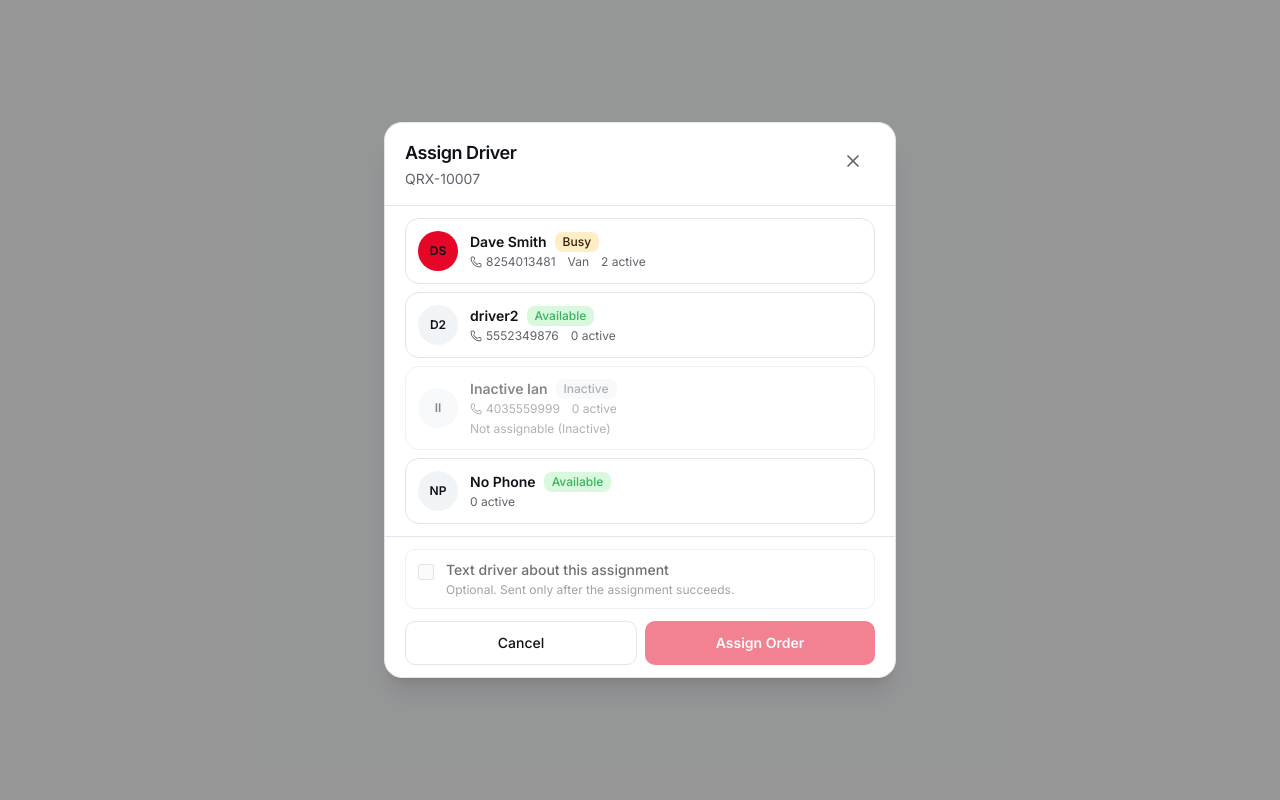
Test: AssignDriverDialog › defaults SMS off for first assignment and can assign without SMS
Click the option "D2 driver2 Available 5552349876 0 active" at (438, 325), box [405,292,875,358]
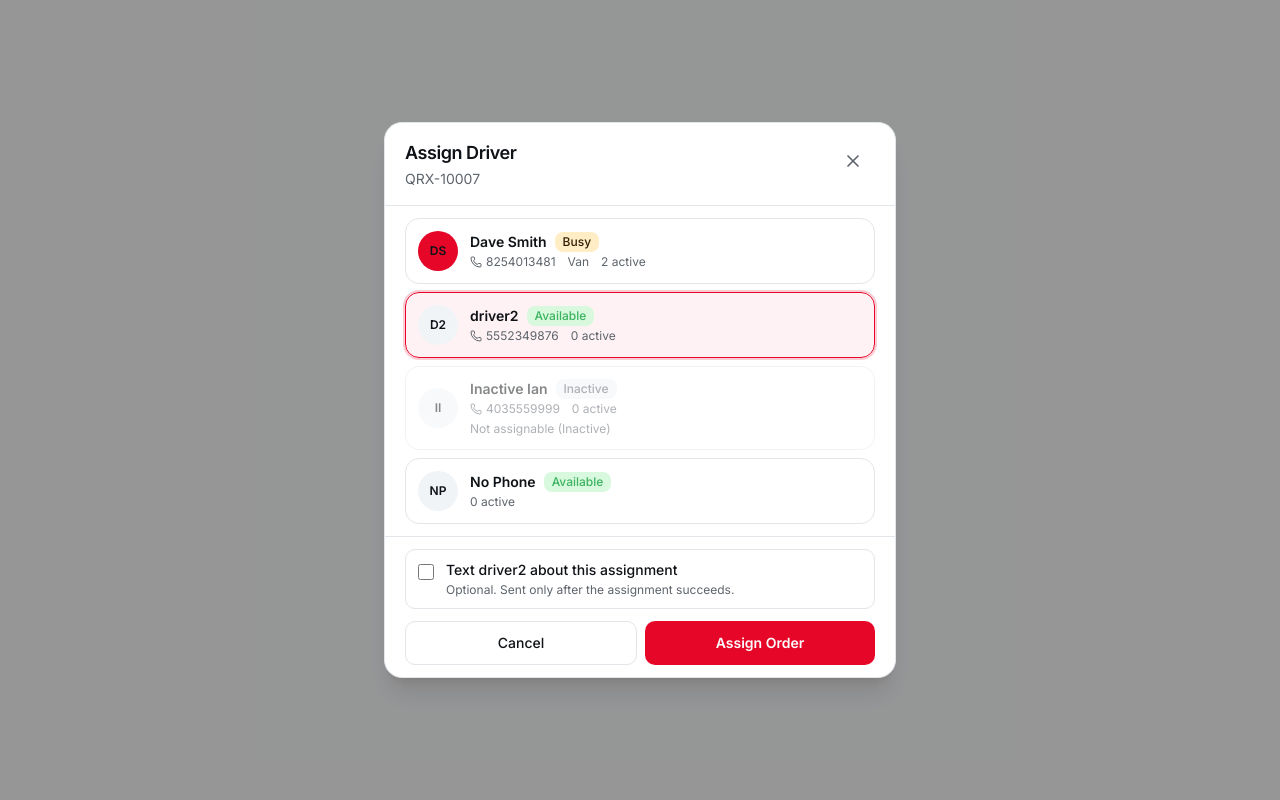
Check: the checkbox is not checked, box [418,564,434,580]
Click the button "Assign Order" at (760, 643), box [645,621,875,665]
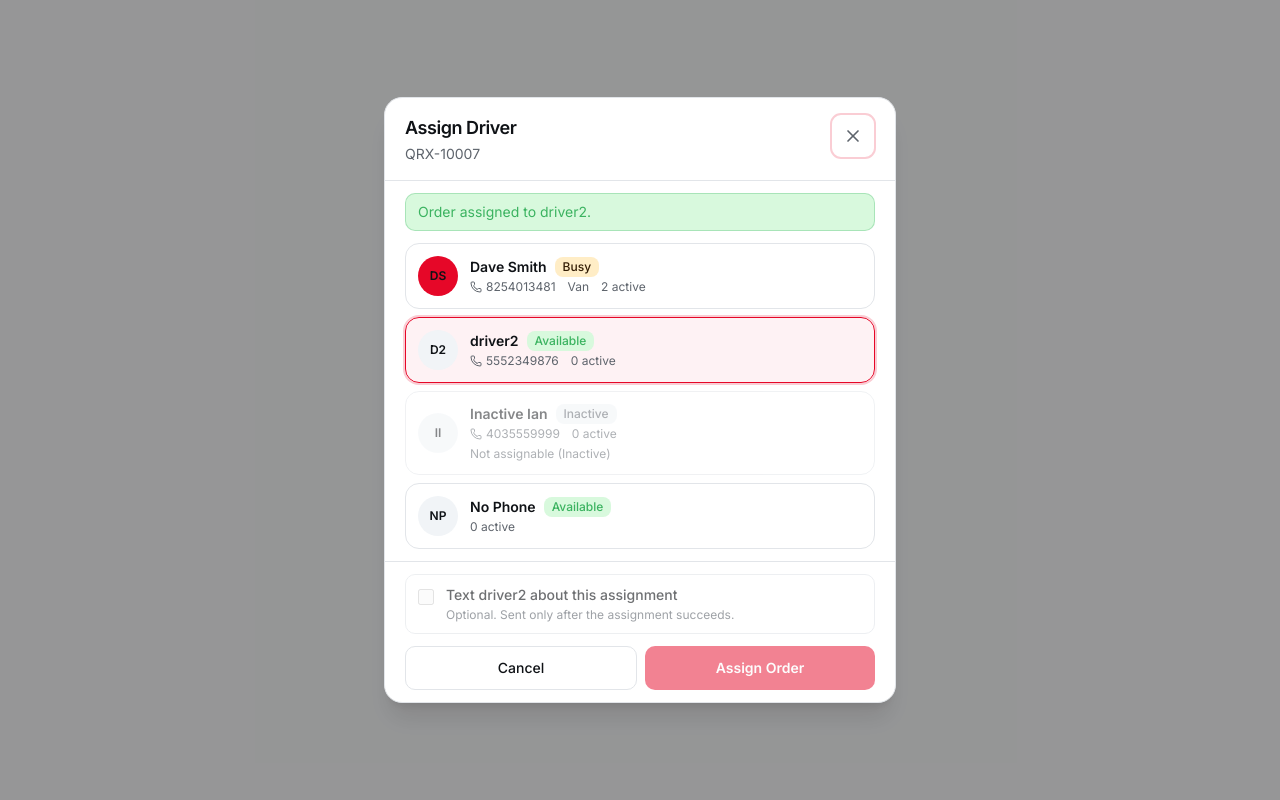
Check: the text "Order assigned to driver2." is shown, box [405,193,875,231]
